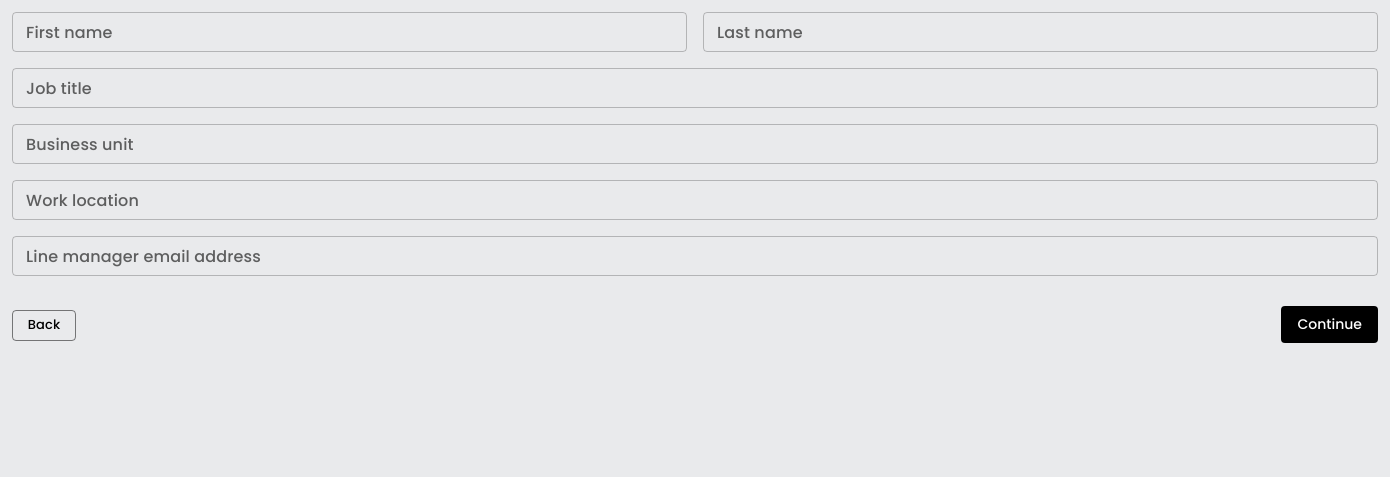
Test: RegisterDetailsForm › errors for required fields
The image size is (1390, 477).
Click the button "Continue".
click(1330, 324)  # box [1281,306,1378,342]
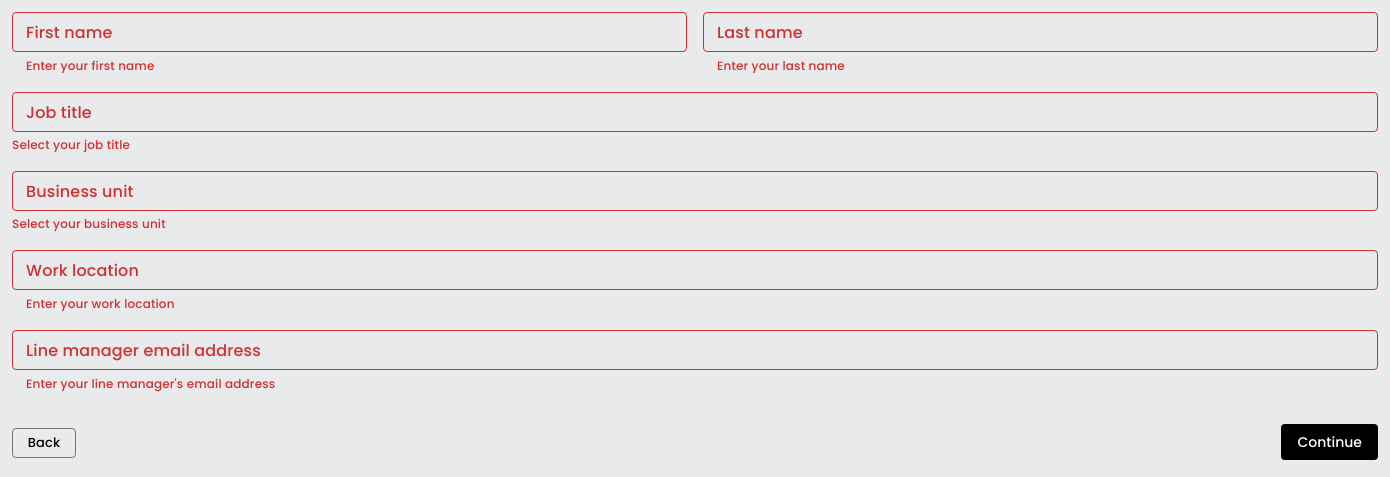
expect the text "Enter your first name" is shown: met, box [26,57,154,74]
expect the text "Select your job title" is shown: met, box [12,136,130,153]
expect the text "Enter your line manager's email address" is shown: met, box [26,375,275,392]
